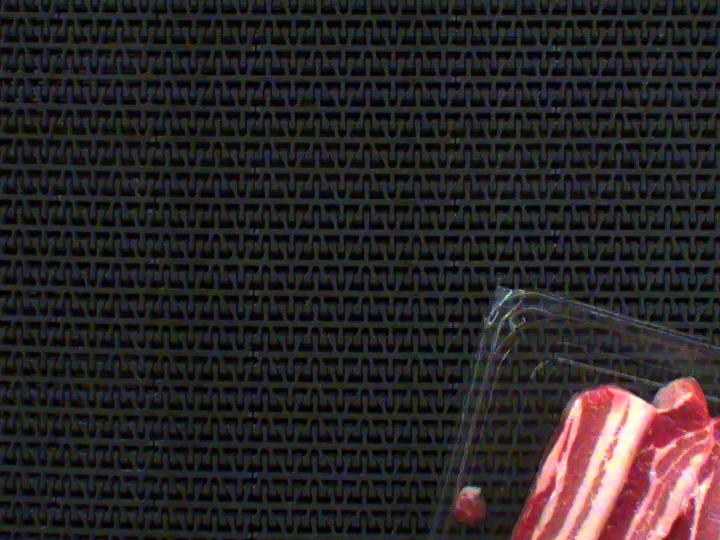loose-meat: (431, 456, 512, 538)
